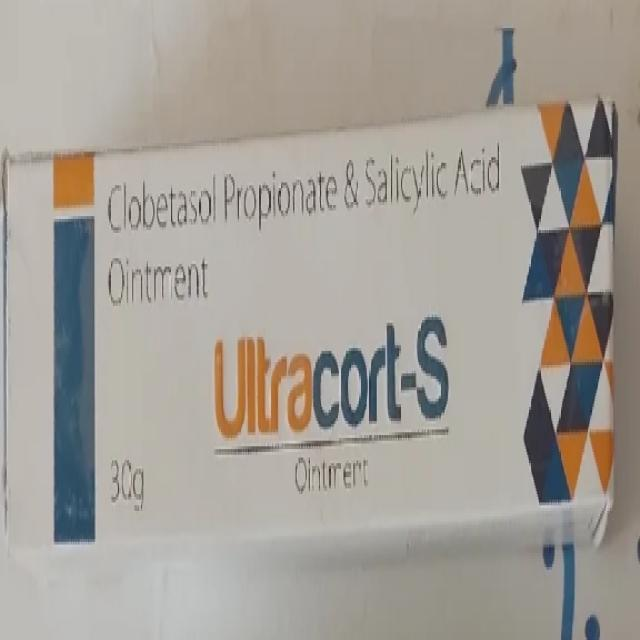drug-name: (212, 316, 458, 441)
